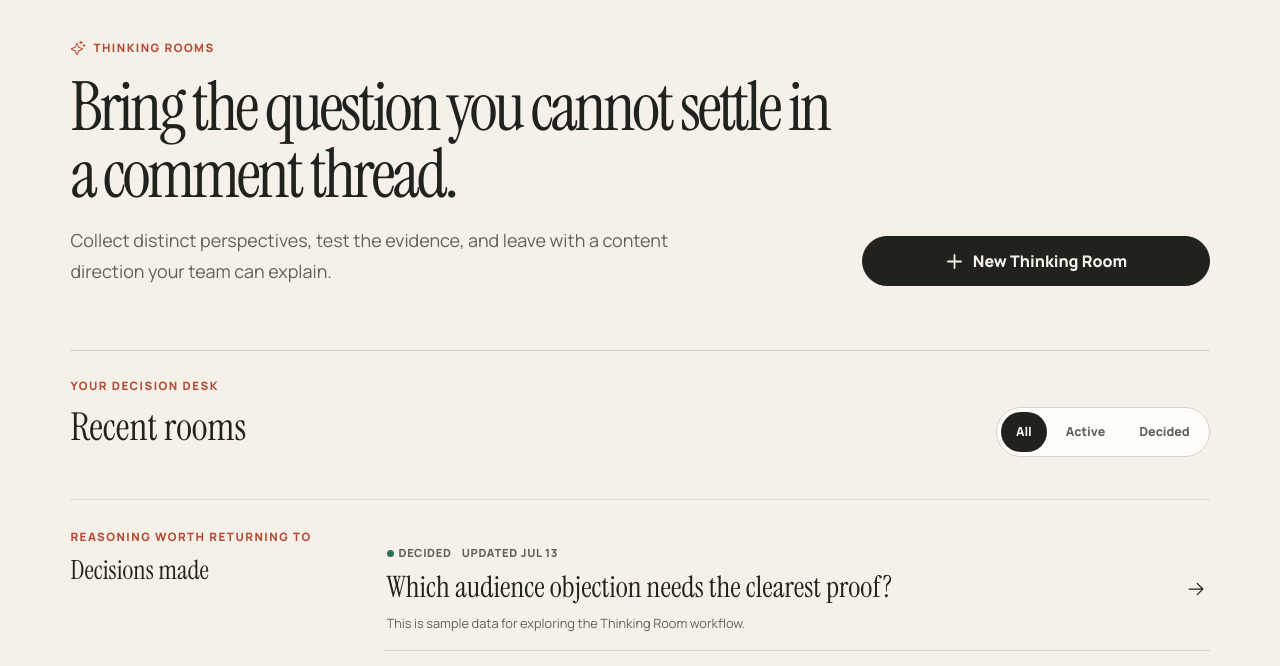
Test case: Thinking Room library › keeps the loaded library and draft visible when live creation permission is denied
Check: the link "Which audience objection" is shown, box [382,528,1210,651]
Click the button "New Thinking Room".
click(1036, 261)  # box [862,236,1210,286]
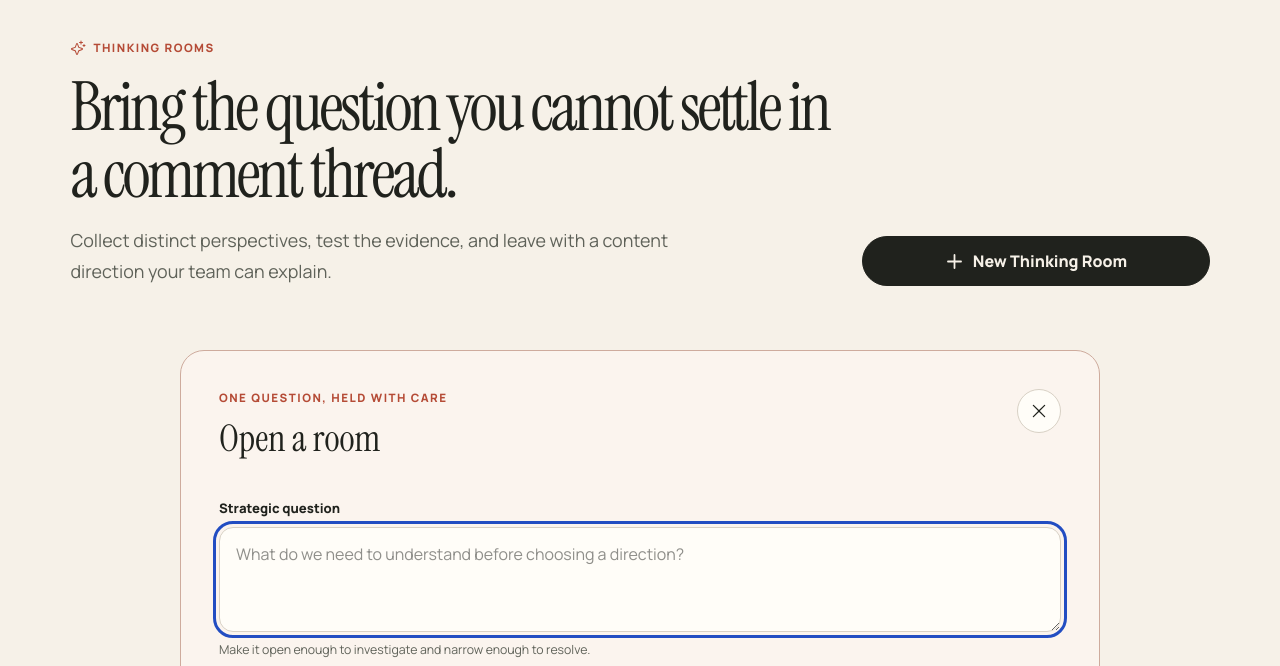
Type "What evidence would make this direction trustworthy?" into the text box labelled "Strategic question".
click(640, 580); type("What evidence would make this direction trustworthy?")  # box [219,527,1061,632]
(page scrolled)
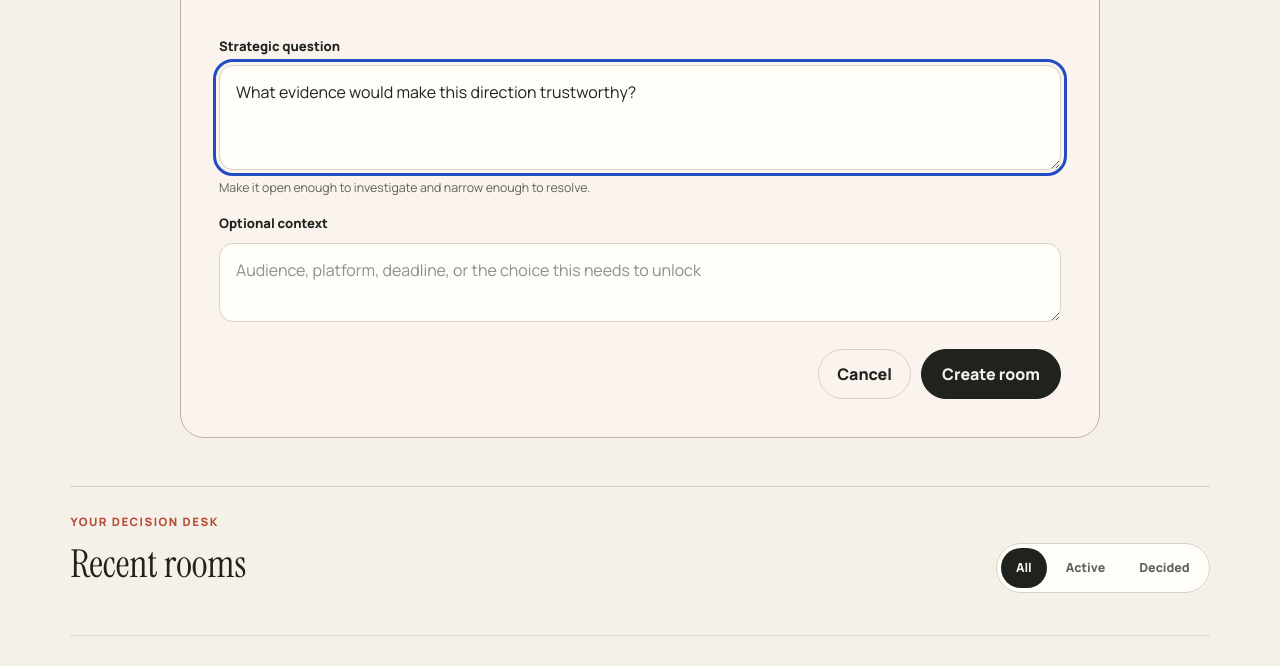
Click the button "Create room".
click(991, 374)  # box [921,349,1061,399]
(page scrolled)
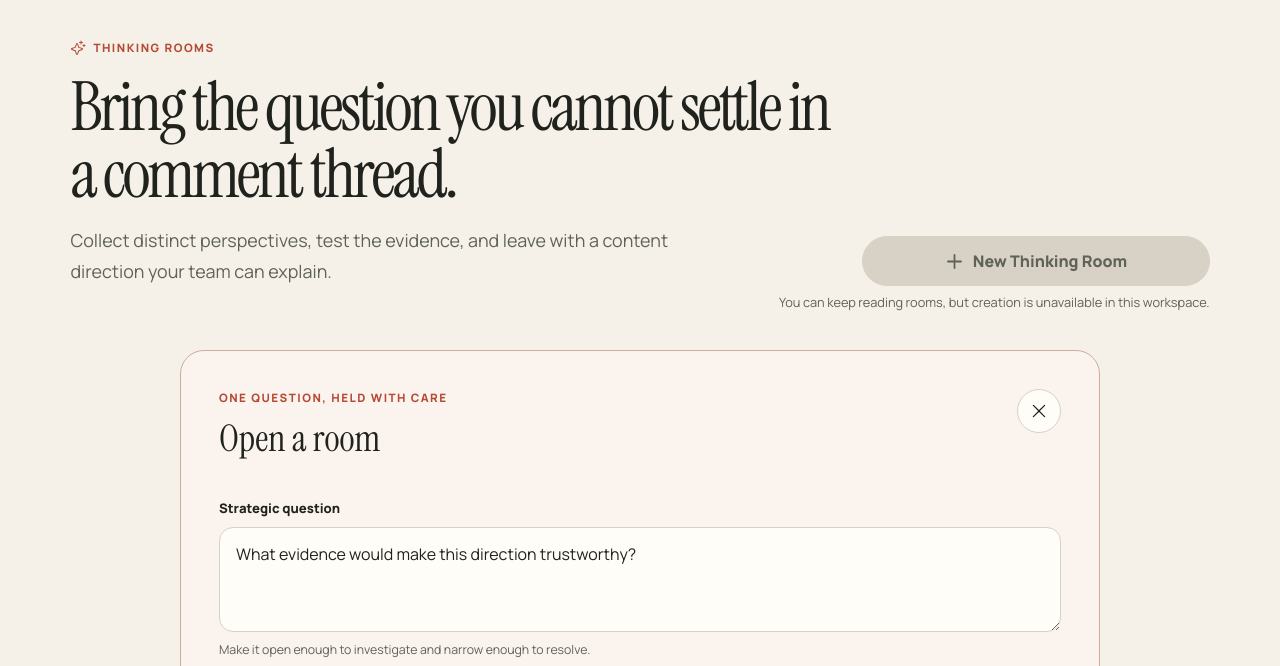
Check: the button "New Thinking Room" is disabled, box [862,236,1210,286]
